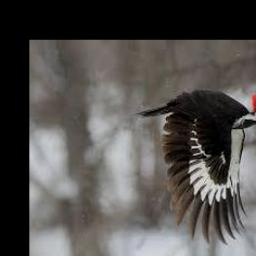Woodpecker: (137, 91, 256, 242)
